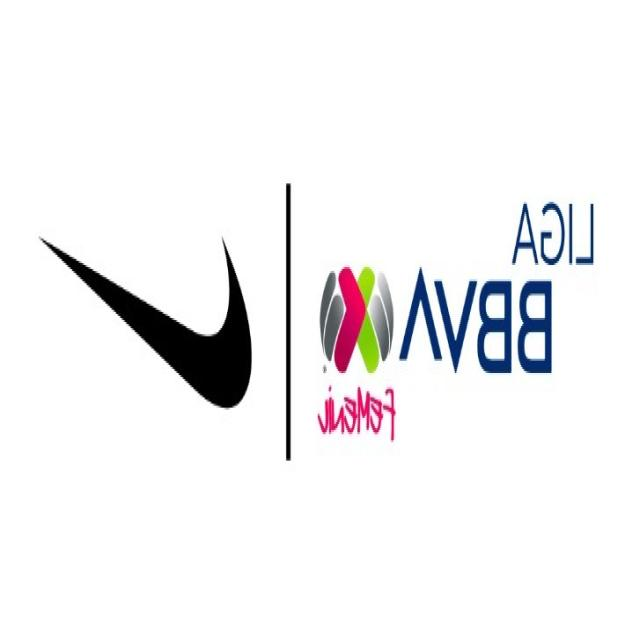nike: (38, 222, 256, 427)
